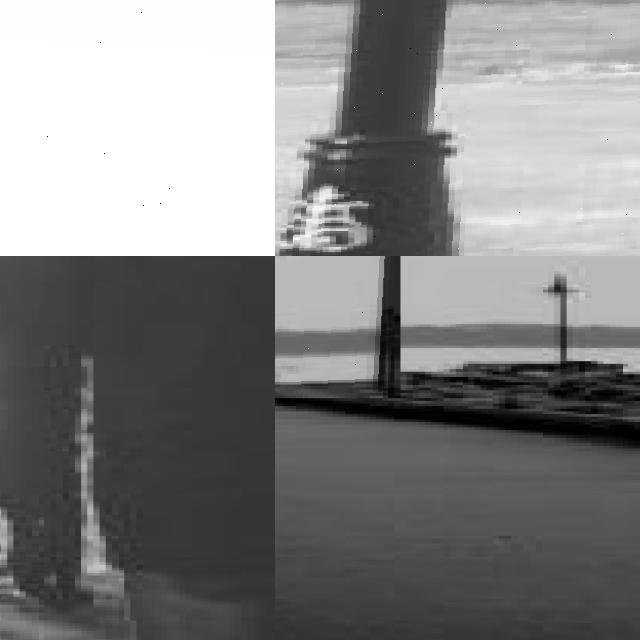street light: (275, 0, 640, 256), (0, 0, 275, 256), (275, 256, 400, 398), (530, 274, 585, 376)
